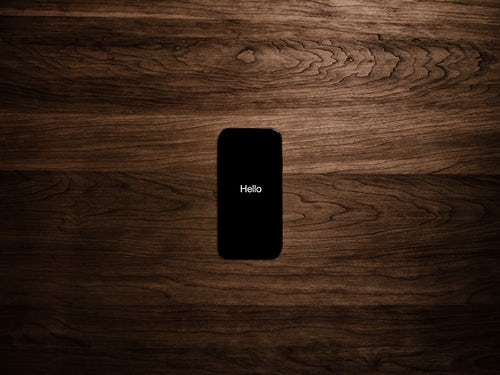phone: (215, 127, 283, 263)
